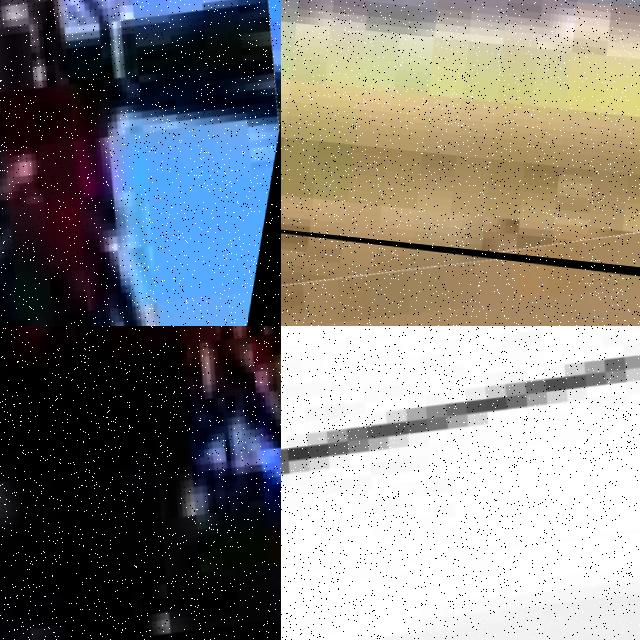0: (0, 0, 281, 326), (0, 326, 281, 640), (281, 204, 640, 326)
drone: (281, 326, 640, 640)
